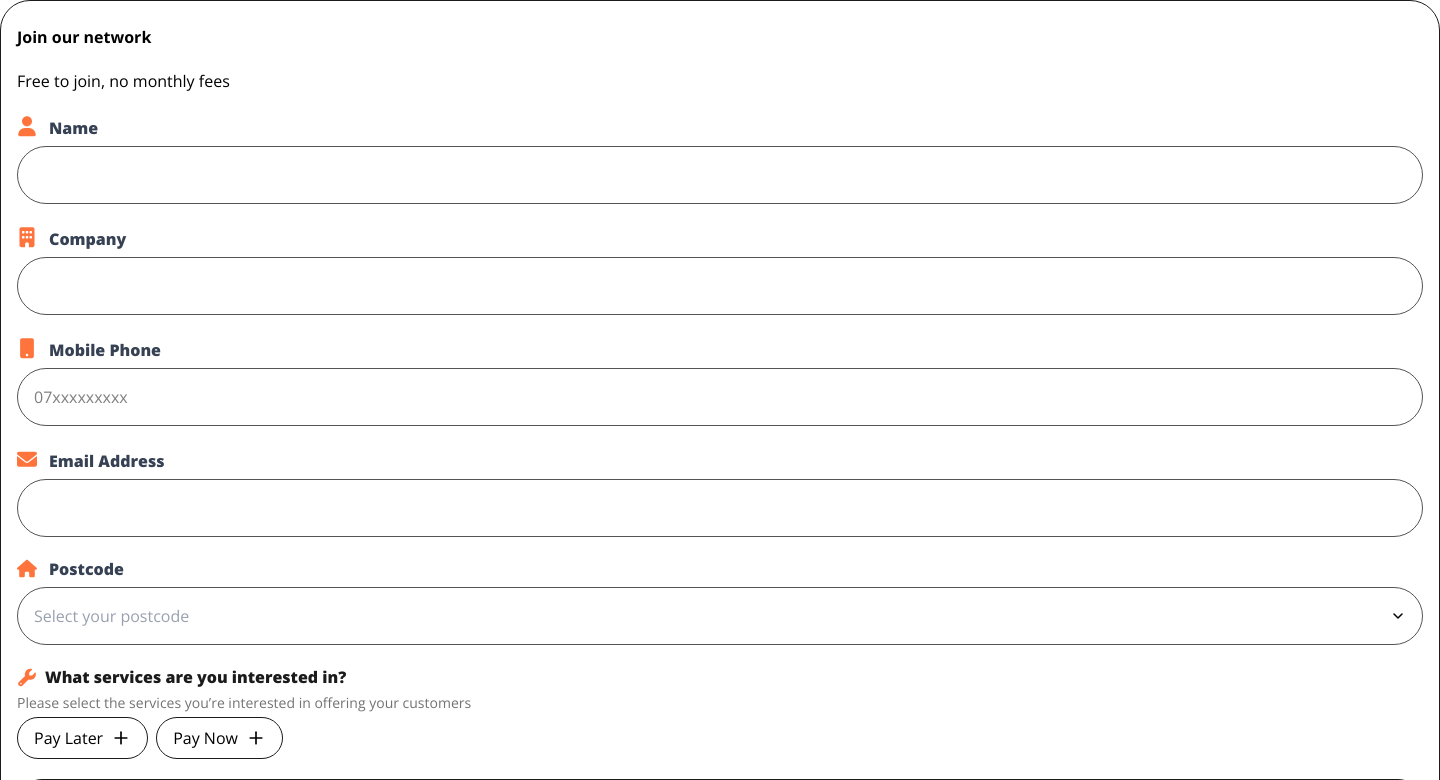
it: RegisterForm validation tests › validates mobile phone format
Type "1234567890" into the field labelled "Mobile Phone". click: (720, 397)
box: x1=17 y1=368 x2=1423 y2=426
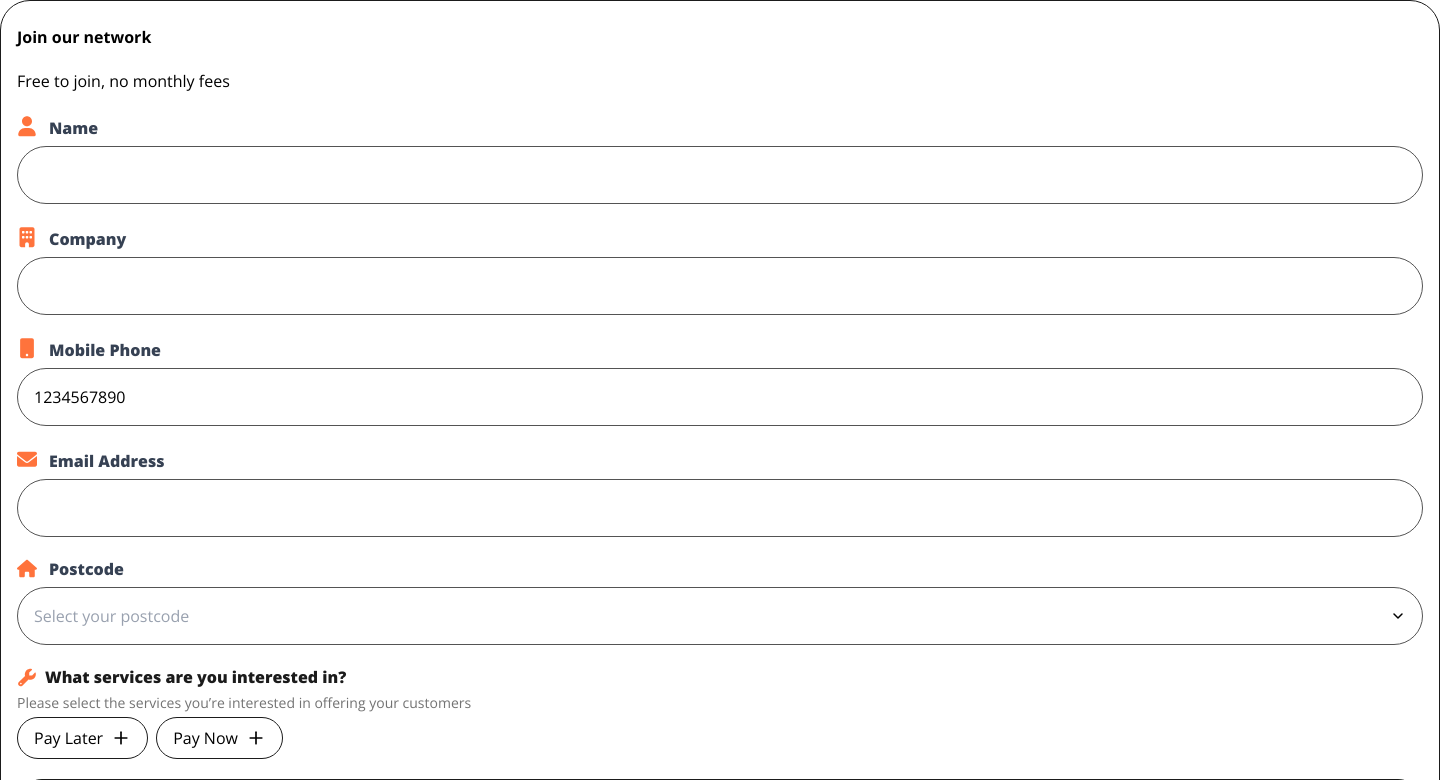
Leave the field labelled "Mobile Phone", box x1=17 y1=368 x2=1423 y2=426
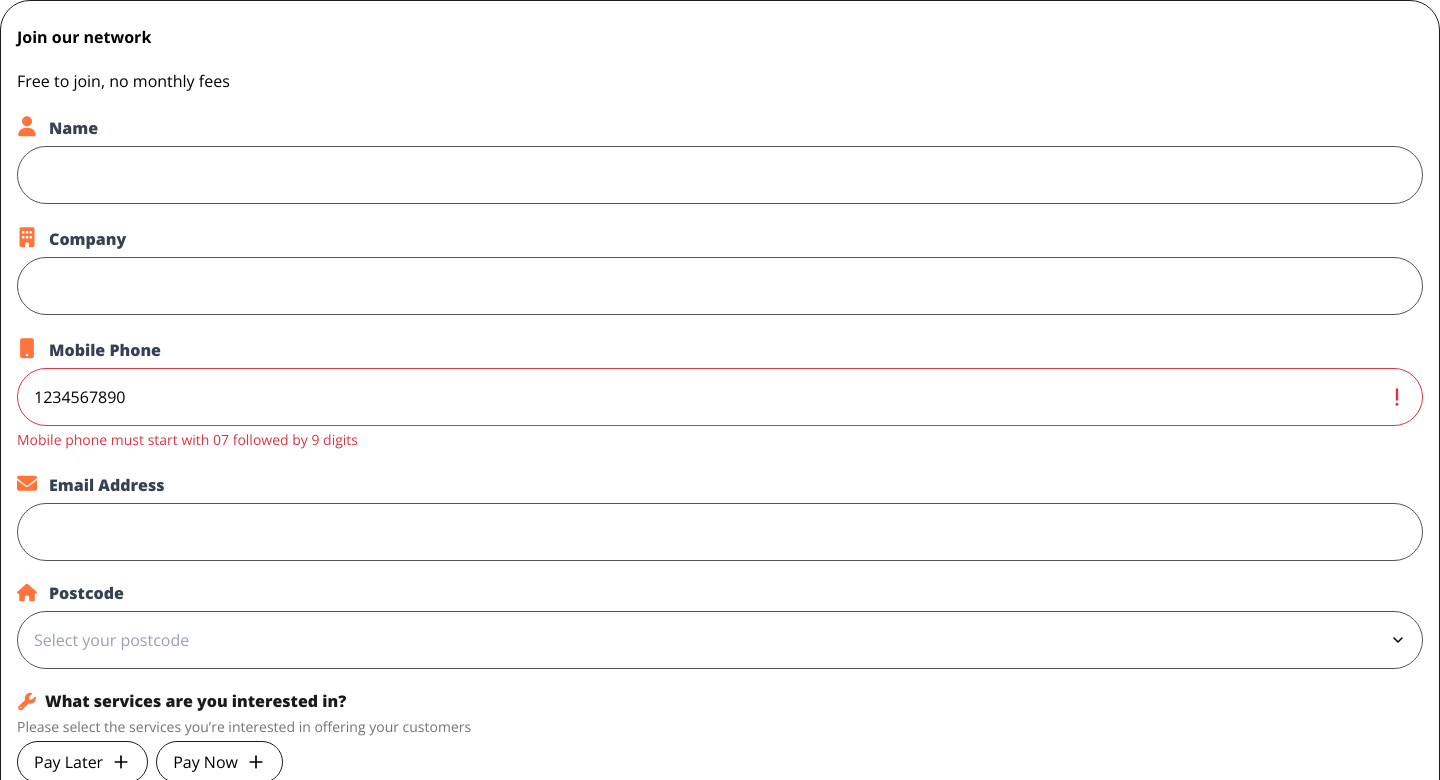
Expected: the text "Mobile phone must start with 07 followed by 9 digits" is shown, x1=17 y1=430 x2=358 y2=449
